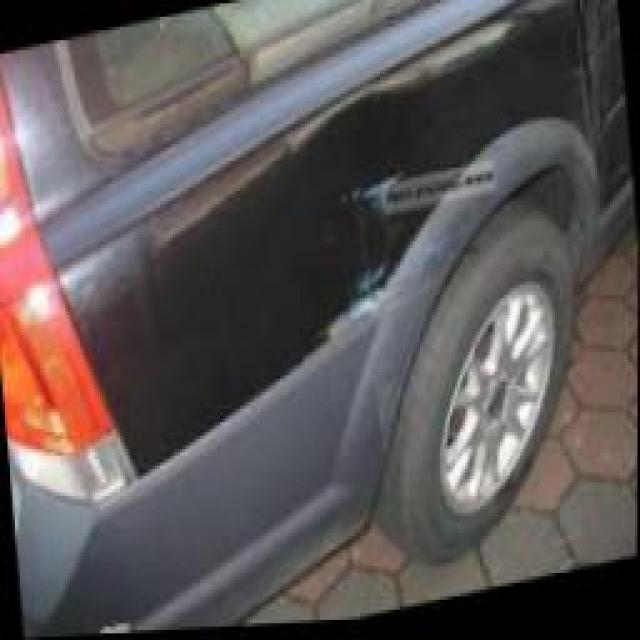Fender: (297, 157, 429, 326)
